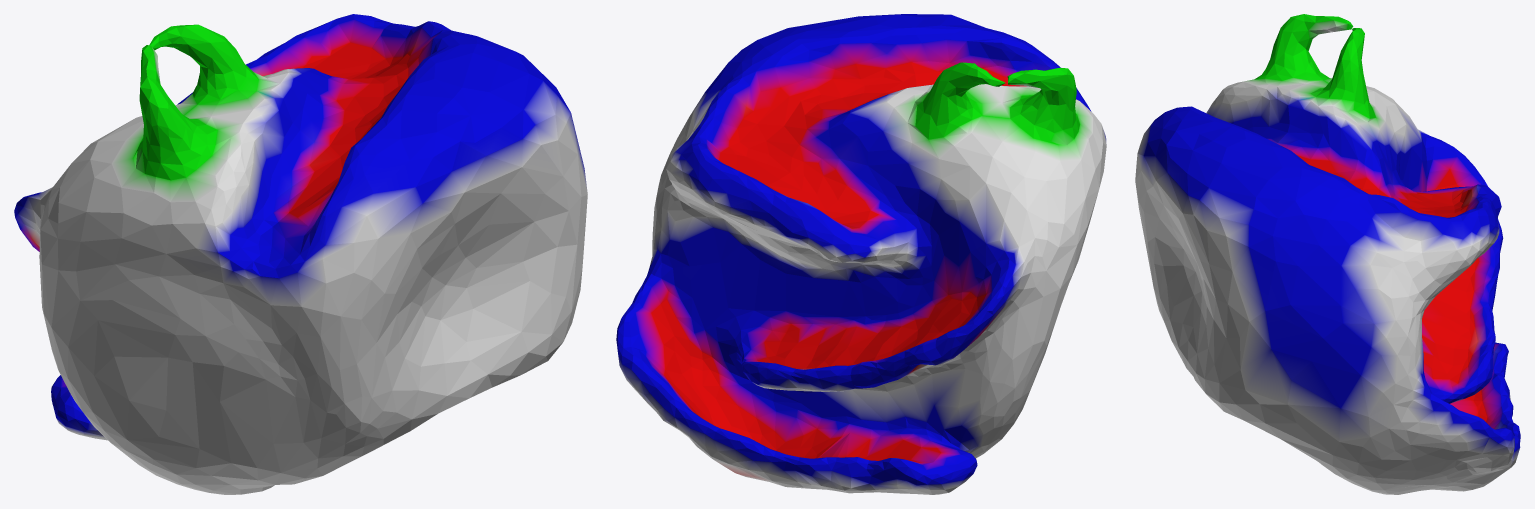
File: CliffSideJUSTLETGO.fbx
3 views of the same model, side by side, from view 1: azimuth 30°, elevation 25°; view 2: azimuth 150°, elevation 25°; view 3: azimuth 270°, elevation 25° (orthographic). The views are drawn at different scales.
Visible parts, largest first — view 1: Sphere; view 2: Sphere; view 3: Sphere.
Boxes of the visible parts, box(x1,y1,x2,y2) form: Sphere: box(14, 14, 587, 494); Sphere: box(616, 14, 1106, 494); Sphere: box(1135, 14, 1520, 494).
Size of the model in its own units: 191 by 182 by 166.
